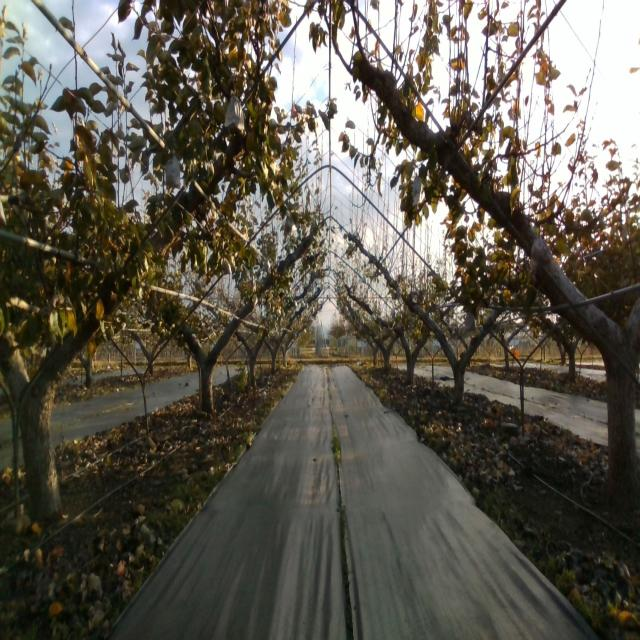pearbags: (530, 232, 554, 274), (224, 90, 245, 132), (164, 149, 180, 189), (411, 172, 426, 207), (462, 306, 477, 334), (284, 213, 296, 242), (220, 256, 232, 276)
